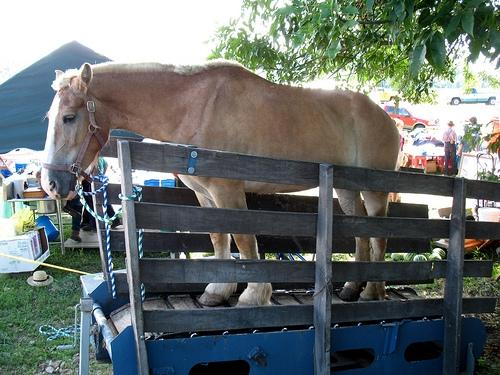watermelon: (428, 252, 442, 269), (430, 248, 446, 259), (403, 253, 418, 261), (418, 252, 430, 261), (413, 255, 427, 261), (392, 253, 404, 260), (385, 253, 391, 259), (431, 246, 433, 252)
